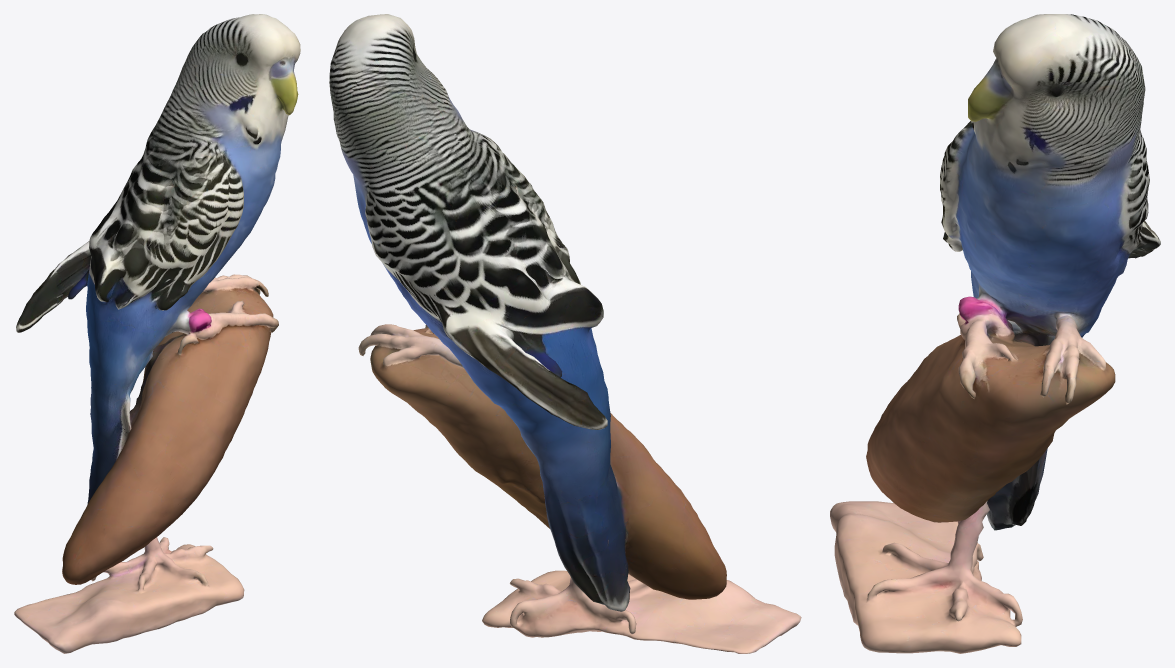
Rendered from cloudy.compressed.glb.
3 views of the same model, side by side, from view 1: azimuth 30°, elevation 25°; view 2: azimuth 150°, elevation 25°; view 3: azimuth 270°, elevation 25° (orthographic). The views are drawn at different scales.
Size of the model in its own units: 1.23 by 1.91 by 0.8258.
1 material, 1 textured.
